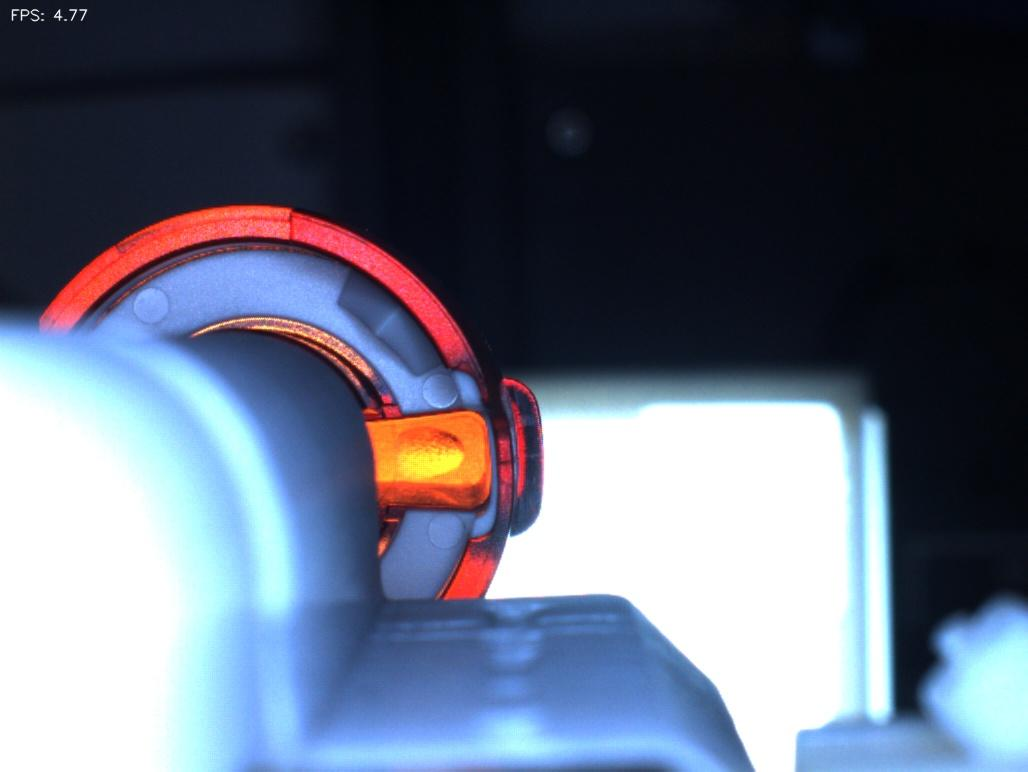Retassure: (383, 421, 477, 488)
